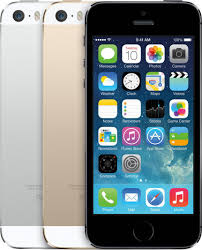iphone5: (81, 1, 202, 248)
